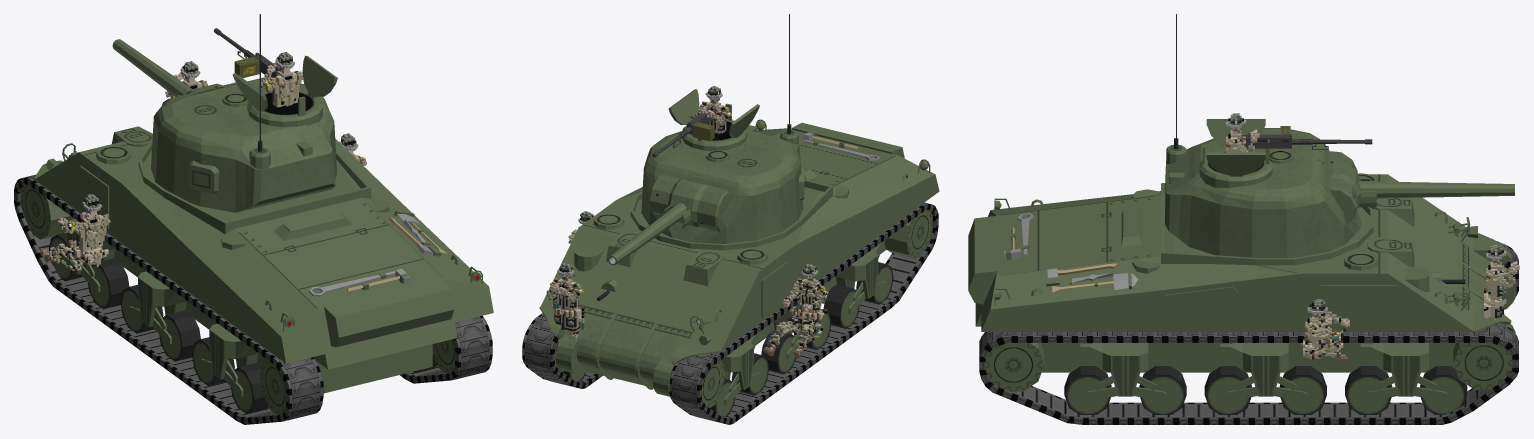
3 views of the same model, side by side, from view 1: azimuth 30°, elevation 25°; view 2: azimuth 150°, elevation 25°; view 3: azimuth 270°, elevation 25° (orthographic). The views are drawn at different scales.
Visible parts, largest first — view 1: 00_chassis_m4a4_chassis.mesh, 03_turret_m4_75_turret.mesh, 08_track_m4a4_track.mesh, 07_track_m4a4_track.mesh, 04_turret_m4_75_cupola.mesh, crew_soldier_SLOT_00_DRIVER, crew_soldier_SLOT_02_GUNNER, weapon_turret_0_m4_75_cannon.mesh, weapon_turret_1_m4_75_cupola_mg.mesh, crew_soldier_SLOT_03_GUNNER; view 2: 00_chassis_m4a4_chassis.mesh, 03_turret_m4_75_turret.mesh, 08_track_m4a4_track.mesh, crew_soldier_SLOT_00_DRIVER, 07_track_m4a4_track.mesh, 04_turret_m4_75_cupola.mesh, crew_soldier_SLOT_03_GUNNER, weapon_turret_0_m4_75_cannon.mesh, crew_soldier_SLOT_02_GUNNER, weapon_turret_1_m4_75_cupola_mg.mesh; view 3: 00_chassis_m4a4_chassis.mesh, 07_track_m4a4_track.mesh, 03_turret_m4_75_turret.mesh, 04_turret_m4_75_cupola.mesh, weapon_turret_0_m4_75_cannon.mesh, crew_soldier_SLOT_01_GUNNER, crew_soldier_SLOT_03_GUNNER, weapon_turret_1_m4_75_cupola_mg.mesh, crew_soldier_SLOT_02_GUNNER.
Boxes of the visible parts, x1=… form: 00_chassis_m4a4_chassis.mesh: x1=34, y1=126, x2=493, y2=413; 03_turret_m4_75_turret.mesh: x1=151, y1=14, x2=337, y2=212; 08_track_m4a4_track.mesh: x1=14, y1=174, x2=323, y2=424; 07_track_m4a4_track.mesh: x1=400, y1=315, x2=492, y2=383; 04_turret_m4_75_cupola.mesh: x1=232, y1=55, x2=337, y2=126; crew_soldier_SLOT_00_DRIVER: x1=40, y1=194, x2=110, y2=270; crew_soldier_SLOT_02_GUNNER: x1=261, y1=52, x2=303, y2=107; weapon_turret_0_m4_75_cannon.mesh: x1=112, y1=39, x2=192, y2=96; weapon_turret_1_m4_75_cupola_mg.mesh: x1=214, y1=28, x2=281, y2=77; crew_soldier_SLOT_03_GUNNER: x1=165, y1=61, x2=207, y2=97; 00_chassis_m4a4_chassis.mesh: x1=539, y1=119, x2=939, y2=417; 03_turret_m4_75_turret.mesh: x1=641, y1=14, x2=804, y2=243; 08_track_m4a4_track.mesh: x1=669, y1=202, x2=938, y2=424; crew_soldier_SLOT_00_DRIVER: x1=763, y1=263, x2=828, y2=358; 07_track_m4a4_track.mesh: x1=522, y1=313, x2=602, y2=388; 04_turret_m4_75_cupola.mesh: x1=668, y1=89, x2=759, y2=150; crew_soldier_SLOT_03_GUNNER: x1=546, y1=263, x2=584, y2=344; weapon_turret_0_m4_75_cannon.mesh: x1=608, y1=203, x2=686, y2=265; crew_soldier_SLOT_02_GUNNER: x1=695, y1=86, x2=731, y2=133; weapon_turret_1_m4_75_cupola_mg.mesh: x1=652, y1=107, x2=716, y2=157; 00_chassis_m4a4_chassis.mesh: x1=968, y1=173, x2=1516, y2=414; 07_track_m4a4_track.mesh: x1=979, y1=323, x2=1518, y2=424; 03_turret_m4_75_turret.mesh: x1=1165, y1=14, x2=1376, y2=257; 04_turret_m4_75_cupola.mesh: x1=1199, y1=119, x2=1272, y2=188; weapon_turret_0_m4_75_cannon.mesh: x1=1359, y1=181, x2=1514, y2=198; crew_soldier_SLOT_01_GUNNER: x1=1301, y1=299, x2=1349, y2=360; crew_soldier_SLOT_03_GUNNER: x1=1484, y1=245, x2=1519, y2=325; weapon_turret_1_m4_75_cupola_mg.mesh: x1=1241, y1=126, x2=1372, y2=149; crew_soldier_SLOT_02_GUNNER: x1=1226, y1=113, x2=1259, y2=152.
Bounding box in the file's own units: 4.69 × 5.37 × 7.72.
40 materials, 4 textured.
